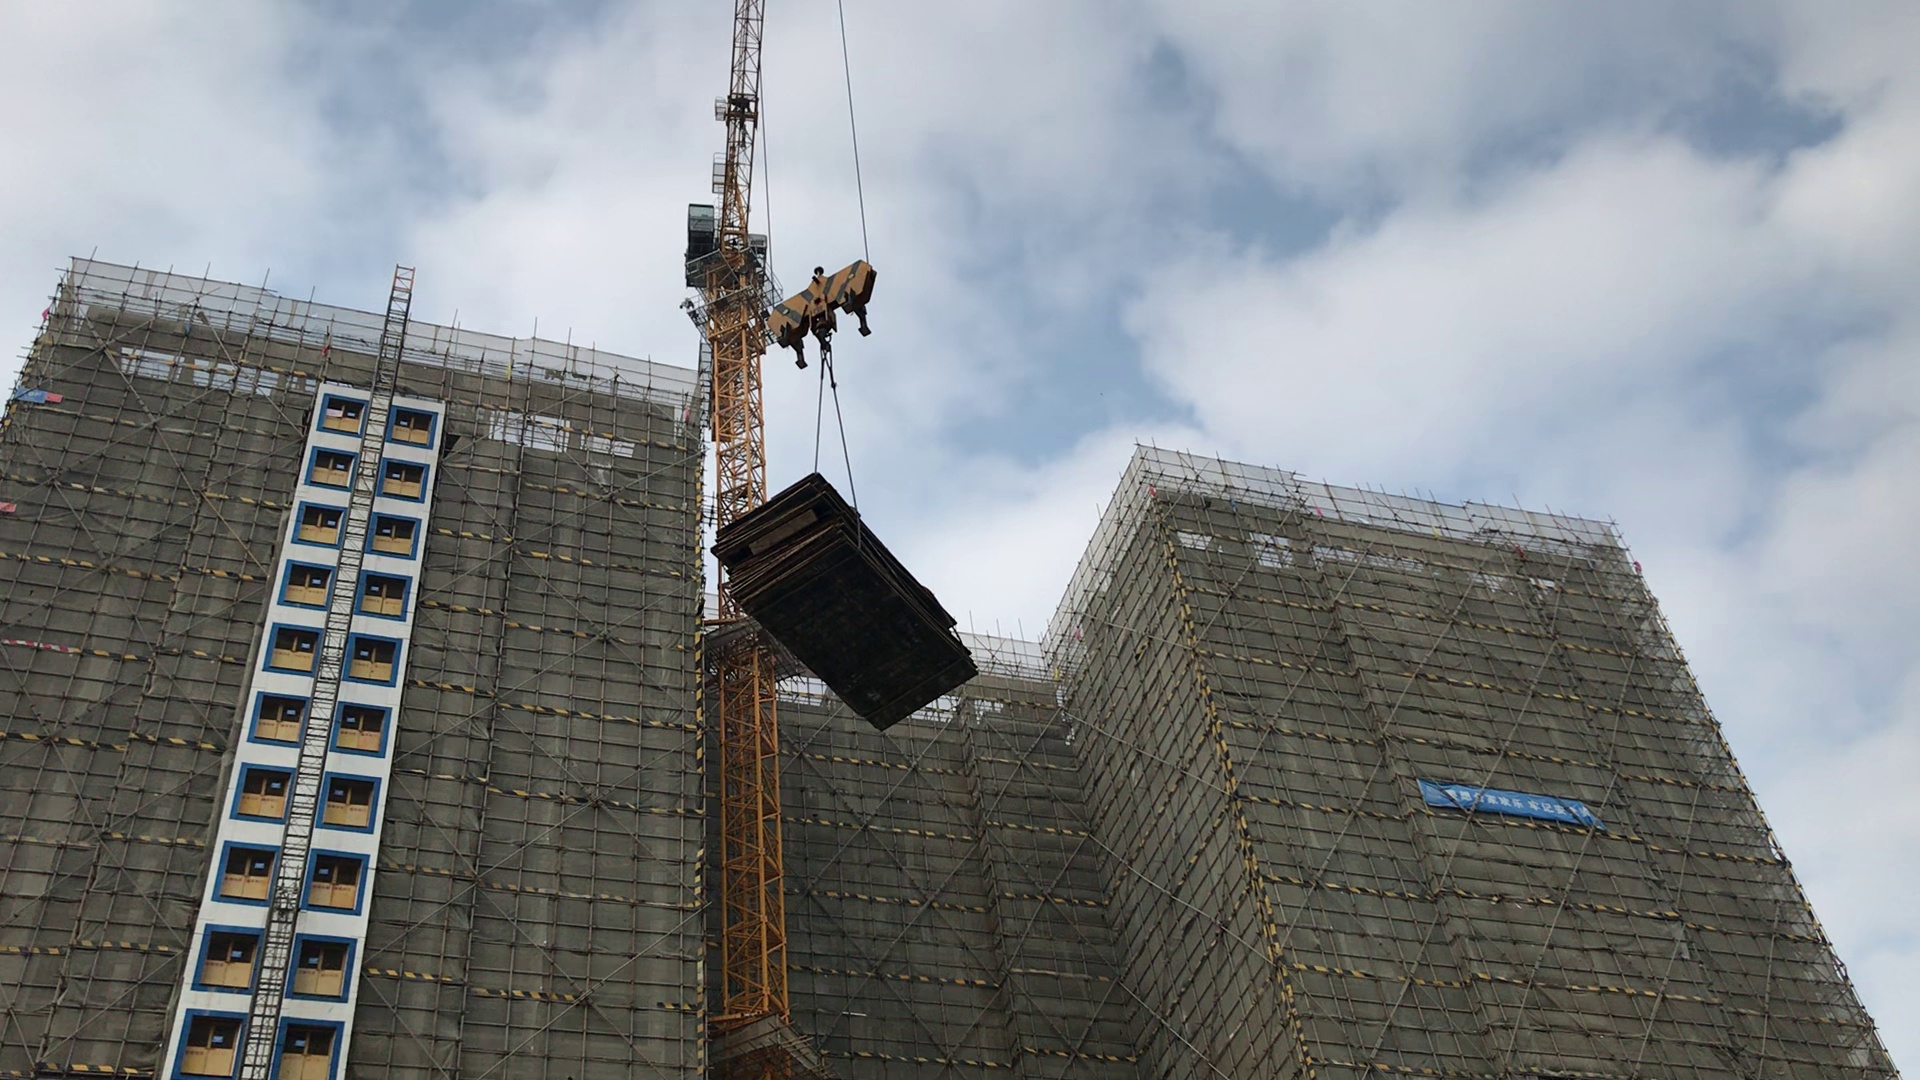board: (713, 475, 978, 735)
hook: (767, 261, 887, 367)
slogan: (1416, 778, 1604, 828)
